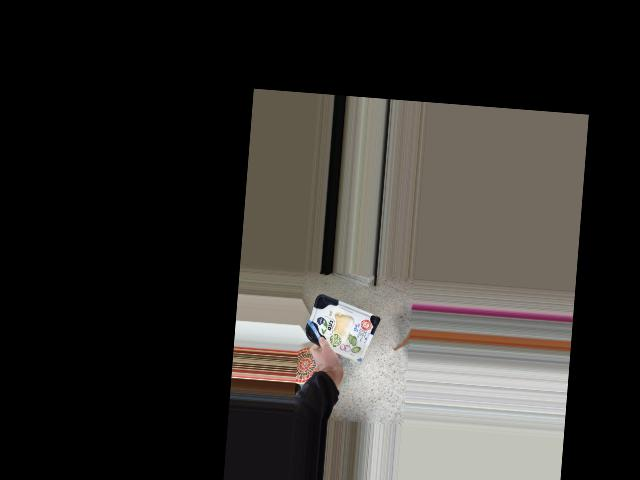cheese: (302, 292, 382, 362)
